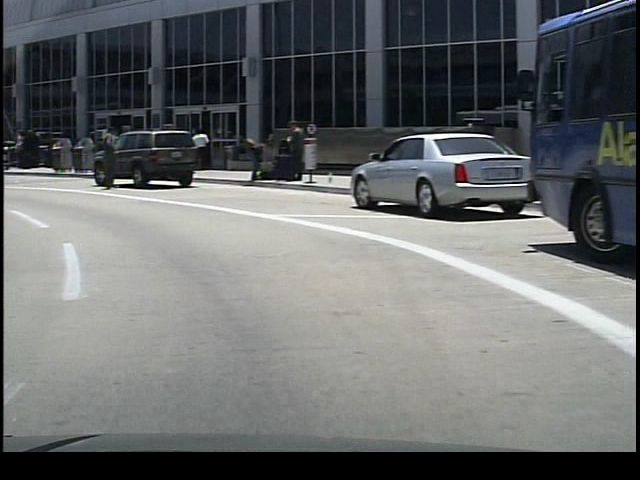person: (91, 117, 120, 197), (239, 130, 268, 184), (279, 119, 299, 184), (185, 127, 207, 172)
